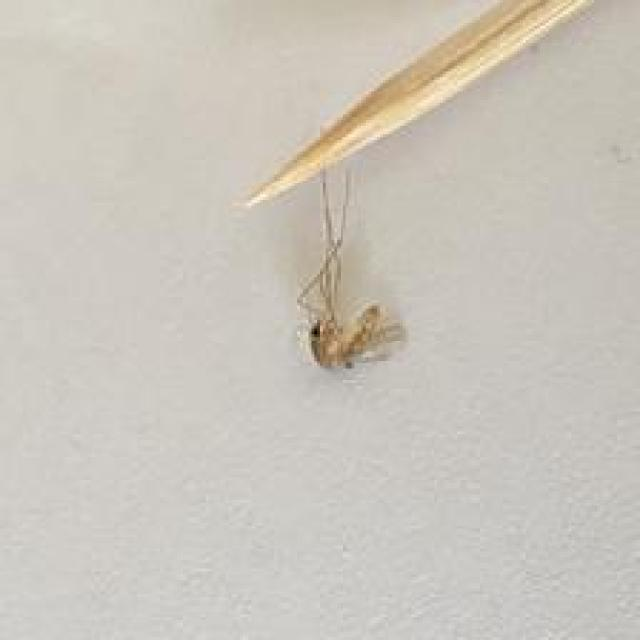Culex: (294, 164, 406, 370)
